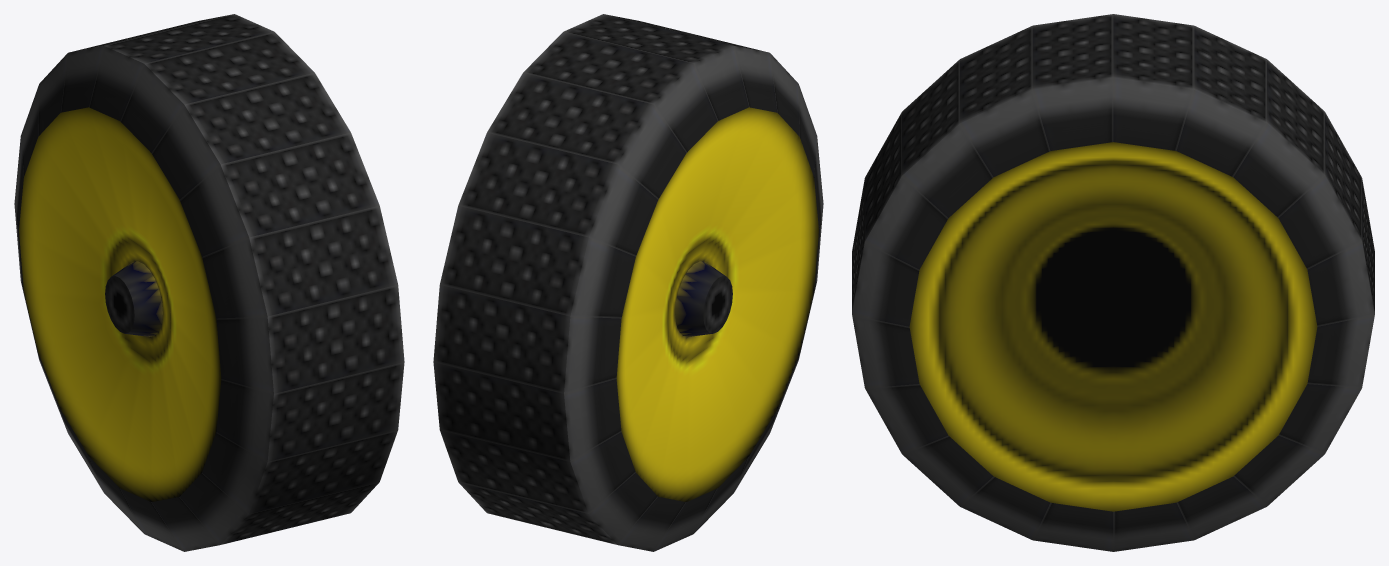
The model's file is Wheel2.fbx.
3 renders of one model, left to right at view 1: azimuth 30°, elevation 25°; view 2: azimuth 150°, elevation 25°; view 3: azimuth 270°, elevation 25°, orthographic.
Visible parts, largest first — view 1: Empty_Mesh; view 2: Empty_Mesh; view 3: Empty_Mesh.
Boxes of the visible parts, box(x1,y1,x2,y2) form: Empty_Mesh: box(14, 14, 404, 551); Empty_Mesh: box(433, 14, 823, 551); Empty_Mesh: box(852, 14, 1374, 551).
Bounding box in the file's own units: 23.04 × 57.89 × 57.89.
